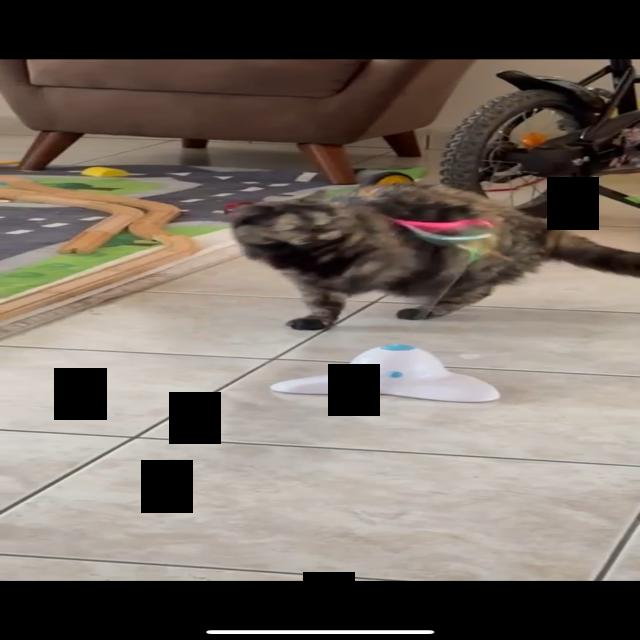authorized: (224, 181, 638, 331)
